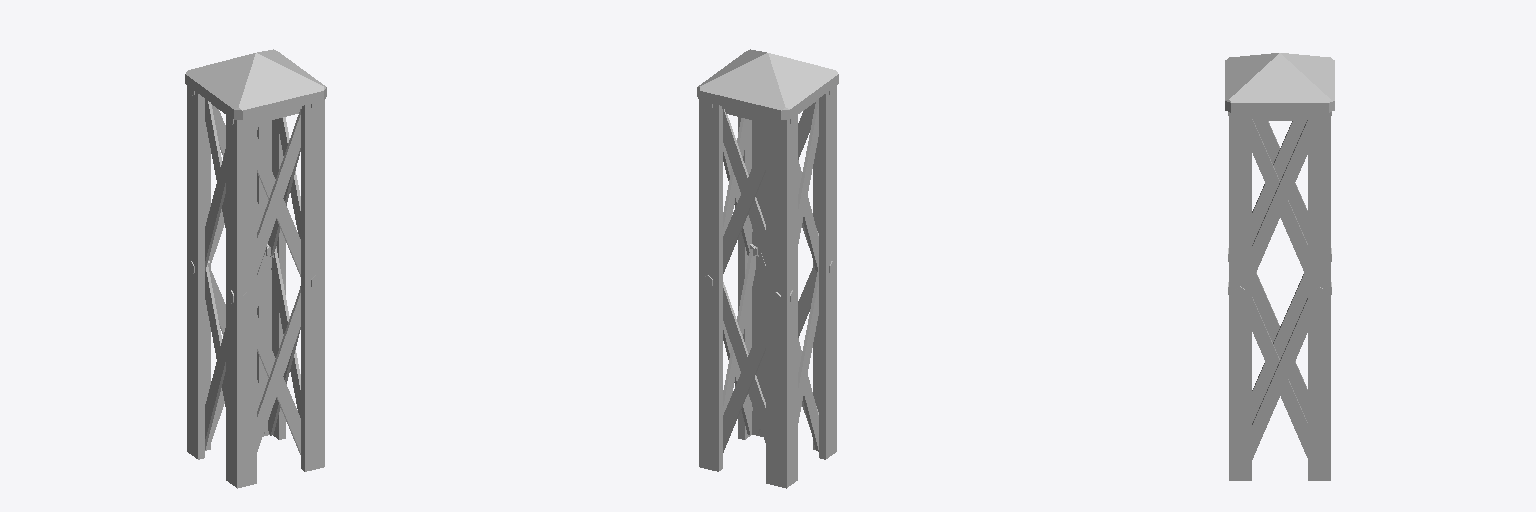
Rendered from lms_post_lattice_top.obj.
3 renders of one model, left to right at view 1: azimuth 30°, elevation 25°; view 2: azimuth 150°, elevation 25°; view 3: azimuth 270°, elevation 25°, orthographic.
Parts seen in each view (by area): view 1: lattice_top_Cube.023; view 2: lattice_top_Cube.023; view 3: lattice_top_Cube.023.
Part boxes in pixels (bbox=[...]): lattice_top_Cube.023: bbox=[185, 49, 326, 488]; lattice_top_Cube.023: bbox=[697, 49, 838, 488]; lattice_top_Cube.023: bbox=[1225, 53, 1334, 480].
Size of the model in its own units: 0.2604 by 1.09 by 0.2667.